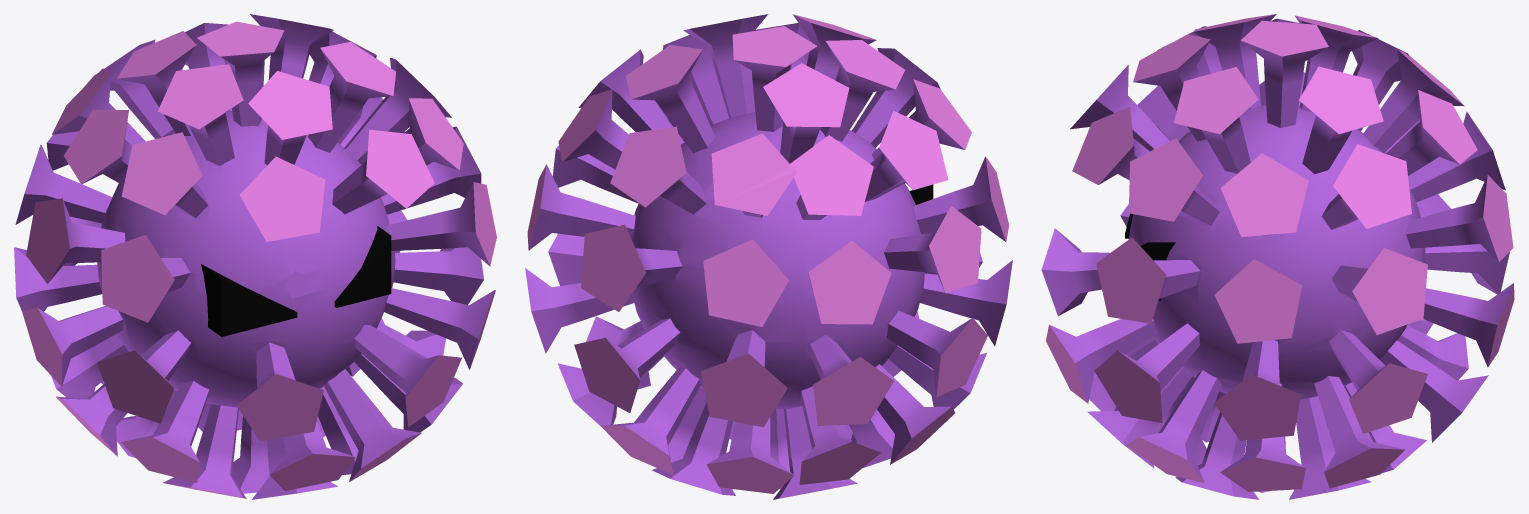
File: PURPLE.fbx
3 renders of one model, left to right at view 1: azimuth 30°, elevation 25°; view 2: azimuth 150°, elevation 25°; view 3: azimuth 270°, elevation 25°, orthographic.
Parts seen in each view (by area): view 1: polySurface258; view 2: polySurface258; view 3: polySurface258.
Part boxes in pixels (x1,y1,x2,y2): polySurface258: (14,14,496,499); polySurface258: (525,14,1012,499); polySurface258: (1041,14,1514,499).
Bounding box in the file's own units: 9.75 × 9.65 × 9.48.
